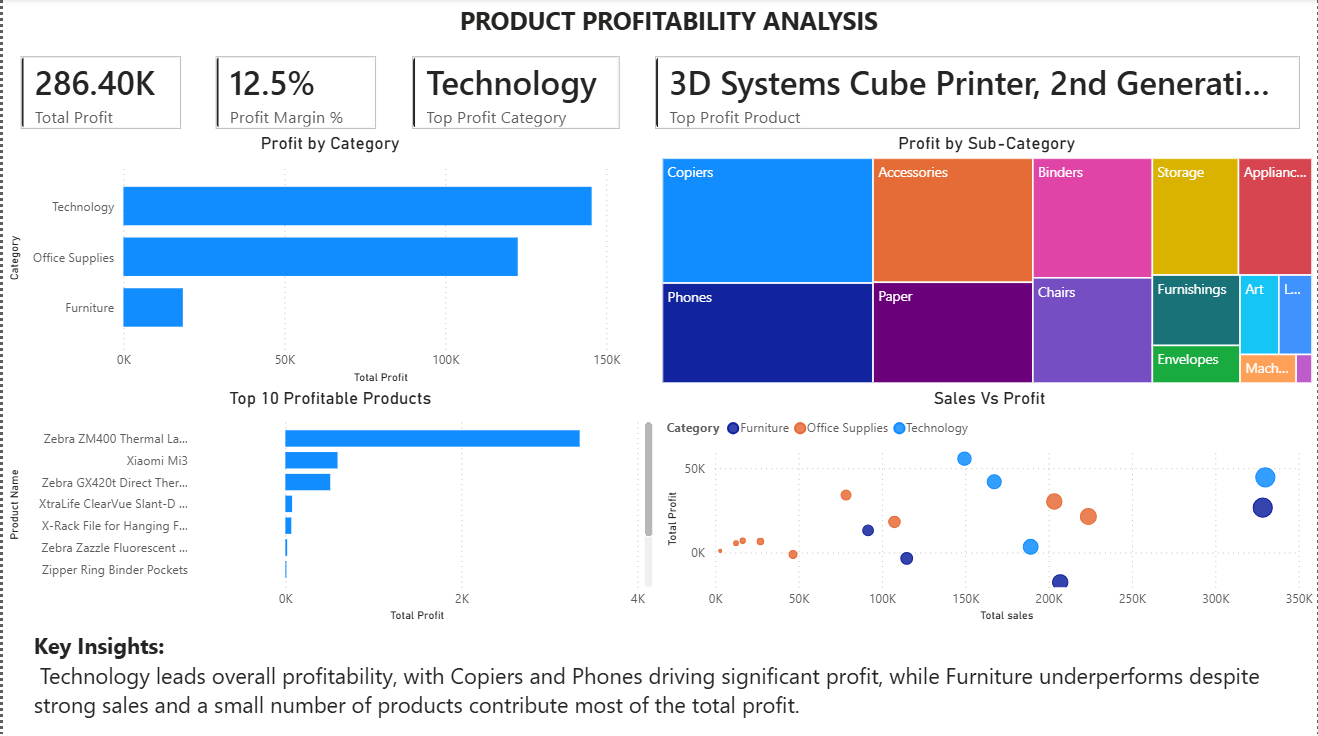

The page's visual inventory and layout, read from the dashboard file:
{"tool":"powerbi","page":{"name":"Page 5","canvas":[1280,720],"ordinal":4},"visuals":[{"type":"cardVisual","fields":{"Data":["DateTable.Total Profit"]},"box":[0,39.5,190.7,105.2],"z":0},{"type":"cardVisual","fields":{"Data":["Min(Sample - Superstore.Category)"]},"box":[381.4,39.5,236.7,105.2],"z":1000},{"type":"cardVisual","fields":{"Data":["Min(Sample - Superstore.Product Name)"]},"box":[618.1,39.5,662.5,105.2],"z":2000},{"type":"cardVisual","fields":{"Data":["DateTable.Profit Margin %"]},"box":[190.7,39.5,190.7,105.2],"z":3000},{"type":"textbox","box":[440.6,0,445.5,52.6],"z":4000},{"type":"clusteredBarChart","title":"Profit by Category","fields":{"Category":["Sample - Superstore.Category"],"Y":["DateTable.Total Profit"]},"box":[0,131.5,637.8,248.2],"z":5000},{"type":"treemap","title":" Profit by Sub-Category","fields":{"Group":["Sample - Superstore.Sub-Category"],"Values":["DateTable.Total Profit"]},"box":[637.8,131.5,642.7,248.2],"z":6000},{"type":"clusteredBarChart","title":"Top 10 Profitable Products","fields":{"Category":["Sample - Superstore.Product Name"],"Y":["DateTable.Total Profit"]},"box":[0,379.7,637.8,231.8],"z":7000},{"type":"scatterChart","title":"Sales Vs Profit","fields":{"X":["DateTable.Total sales"],"Y":["DateTable.Total Profit"],"Size":["DateTable.Total sales"],"Series":["Sample - Superstore.Category"],"Category":["Sample - Superstore.Sub-Category"]},"box":[641.1,379.7,639.5,231.8],"z":8000},{"type":"textbox","box":[24.7,611.5,1254.3,108.5],"z":9000}]}

Visuals, with their boxes in screenshot pixels (x1, y1, x2, y2), scaled from the page's 1280x720 canvas onto the 1318x736 screenshot:
cardVisual - DateTable.Total Profit: bbox=[0, 40, 196, 148]
cardVisual - Min(Sample - Superstore.Category): bbox=[393, 40, 636, 148]
cardVisual - Min(Sample - Superstore.Product Name): bbox=[636, 40, 1317, 148]
cardVisual - DateTable.Profit Margin %: bbox=[196, 40, 393, 148]
textbox: bbox=[454, 0, 912, 54]
"Profit by Category" clusteredBarChart: bbox=[0, 134, 657, 388]
" Profit by Sub-Category" treemap: bbox=[657, 134, 1317, 388]
"Top 10 Profitable Products" clusteredBarChart: bbox=[0, 388, 657, 625]
"Sales Vs Profit" scatterChart: bbox=[660, 388, 1317, 625]
textbox: bbox=[25, 625, 1317, 735]
